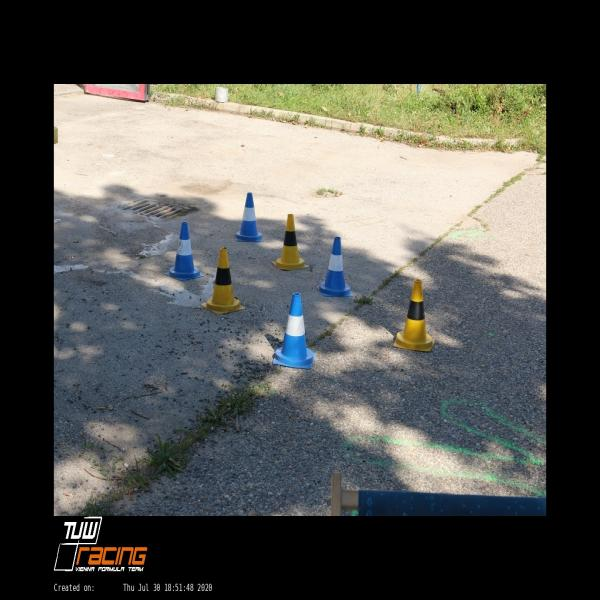blue_cone: (272, 292, 316, 368), (164, 222, 203, 280), (315, 236, 352, 297), (235, 193, 262, 242)
yellow_cone: (393, 278, 435, 353), (200, 248, 245, 314), (271, 213, 309, 270)
